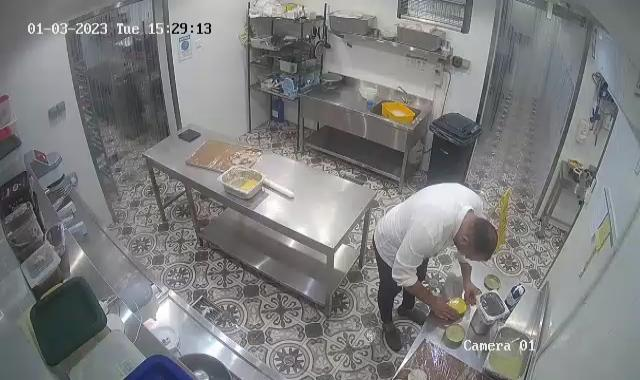no_hairnet: (458, 211, 498, 262)
